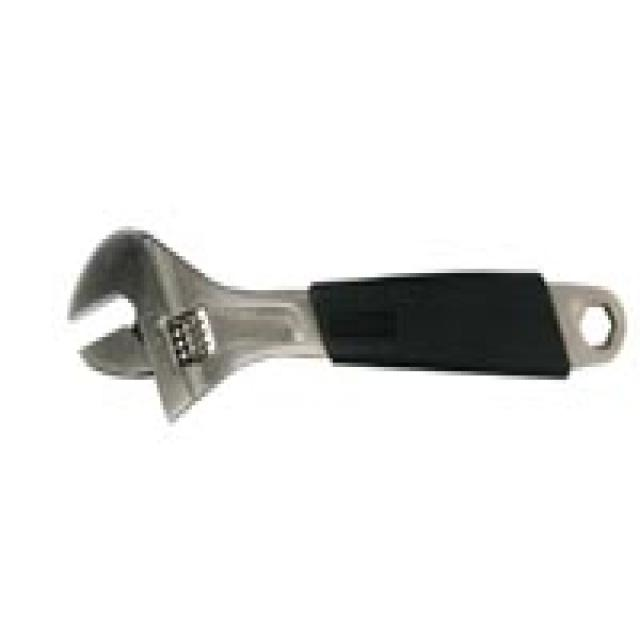wrench: (63, 200, 633, 455)
